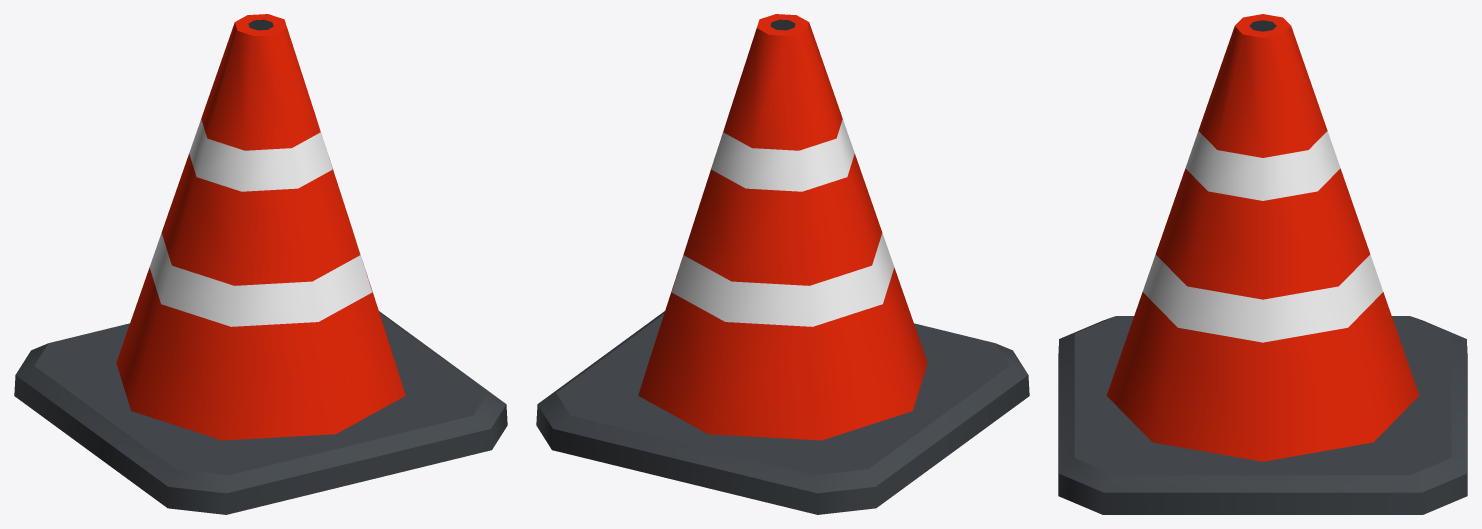
The model's file is Sign_1.fbx.
3 renders of one model, left to right at view 1: azimuth 30°, elevation 25°; view 2: azimuth 150°, elevation 25°; view 3: azimuth 270°, elevation 25°, orthographic. The views are drawn at different scales.
Parts seen in each view (by area): view 1: Sign_1; view 2: Sign_1; view 3: Sign_1.
Part boxes in pixels (box(x1,y1,x2,y2)): Sign_1: box(14, 14, 507, 514); Sign_1: box(536, 14, 1029, 514); Sign_1: box(1058, 14, 1467, 514).
Bounding box in the file's own units: 47.81 × 51.83 × 47.81.
